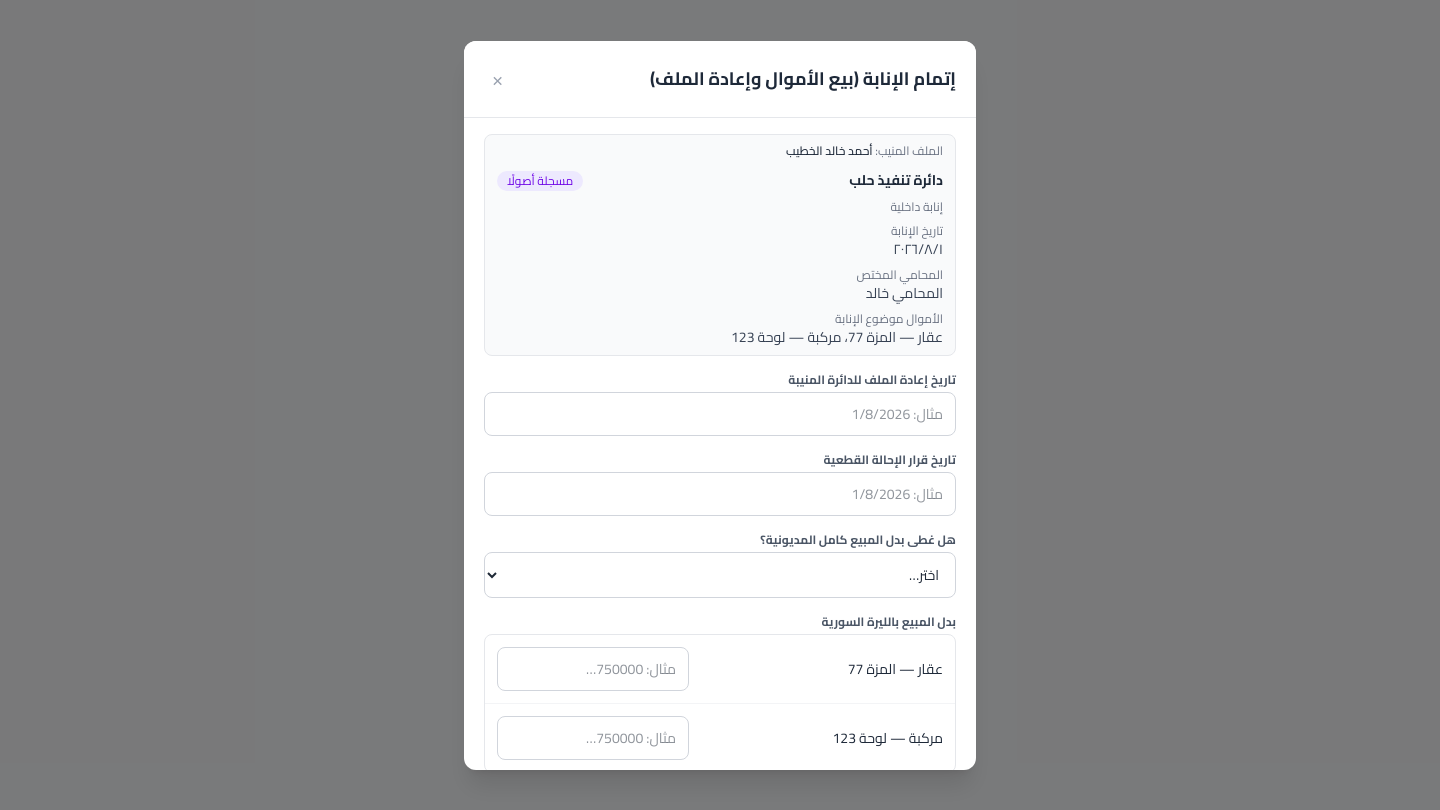
Test: CompleteDelegationModal › يرفض بدل المبيع الصفري أو غير الرقمي
Type "10/8/2026" into the field labelled "تاريخ إعادة الملف للدائرة المنيبة" at [720, 414], box [484, 392, 956, 436]
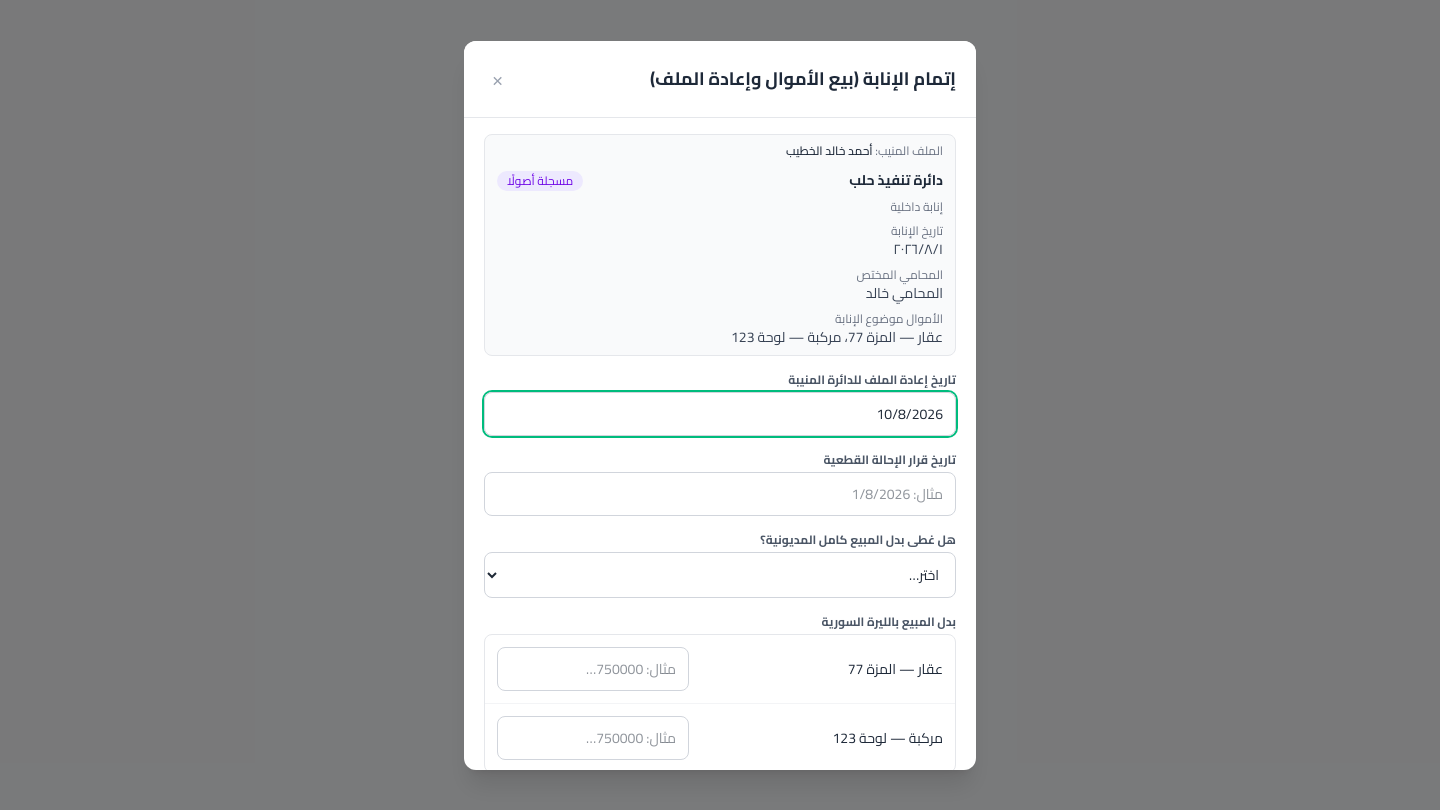
Type "12/8/2026" into the field labelled "تاريخ قرار الإحالة القطعية" at [720, 494], box [484, 472, 956, 516]
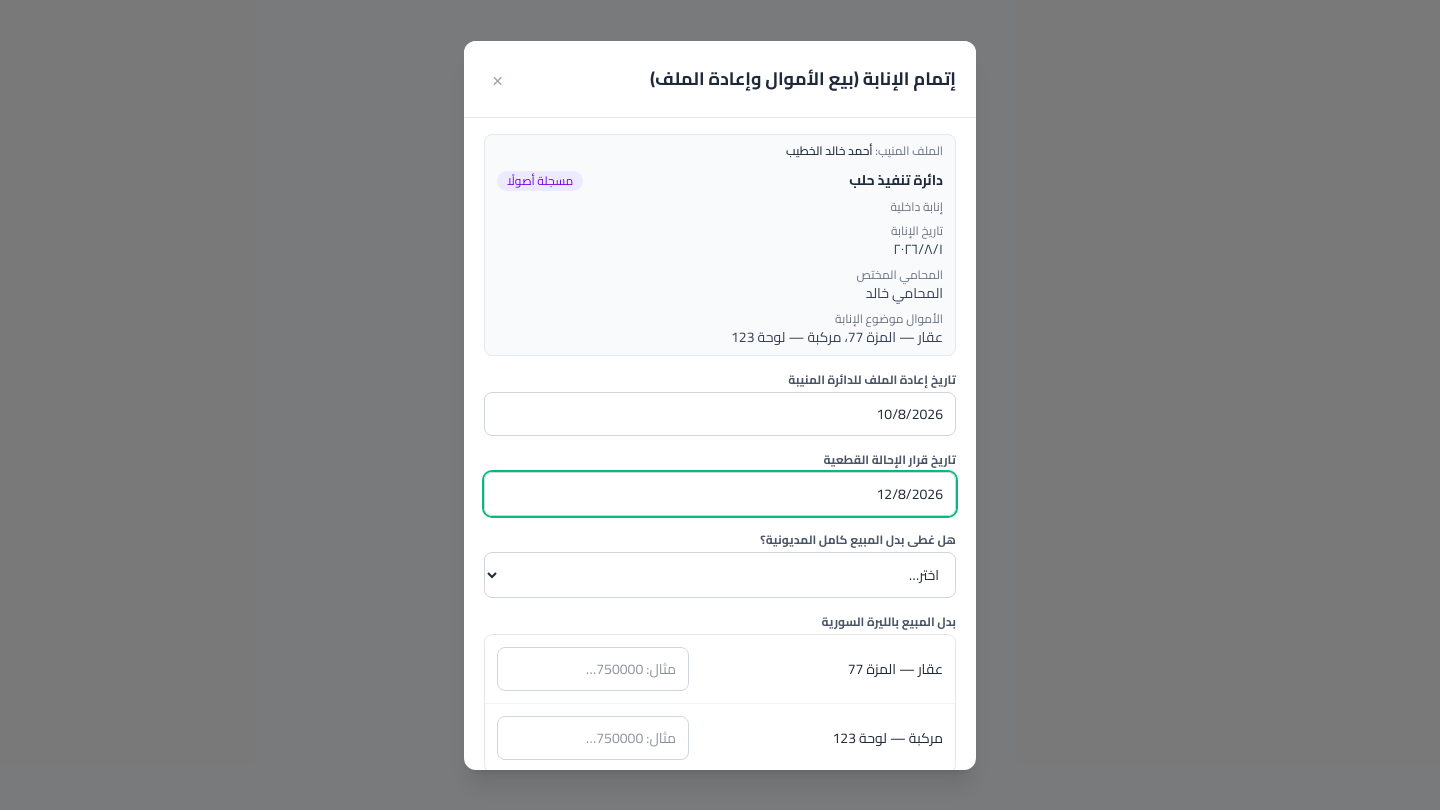
Select "غطى كامل المديونية" in the dropdown labelled "هل غطى بدل المبيع كامل المديونية؟" at [720, 574], box [484, 552, 956, 598]
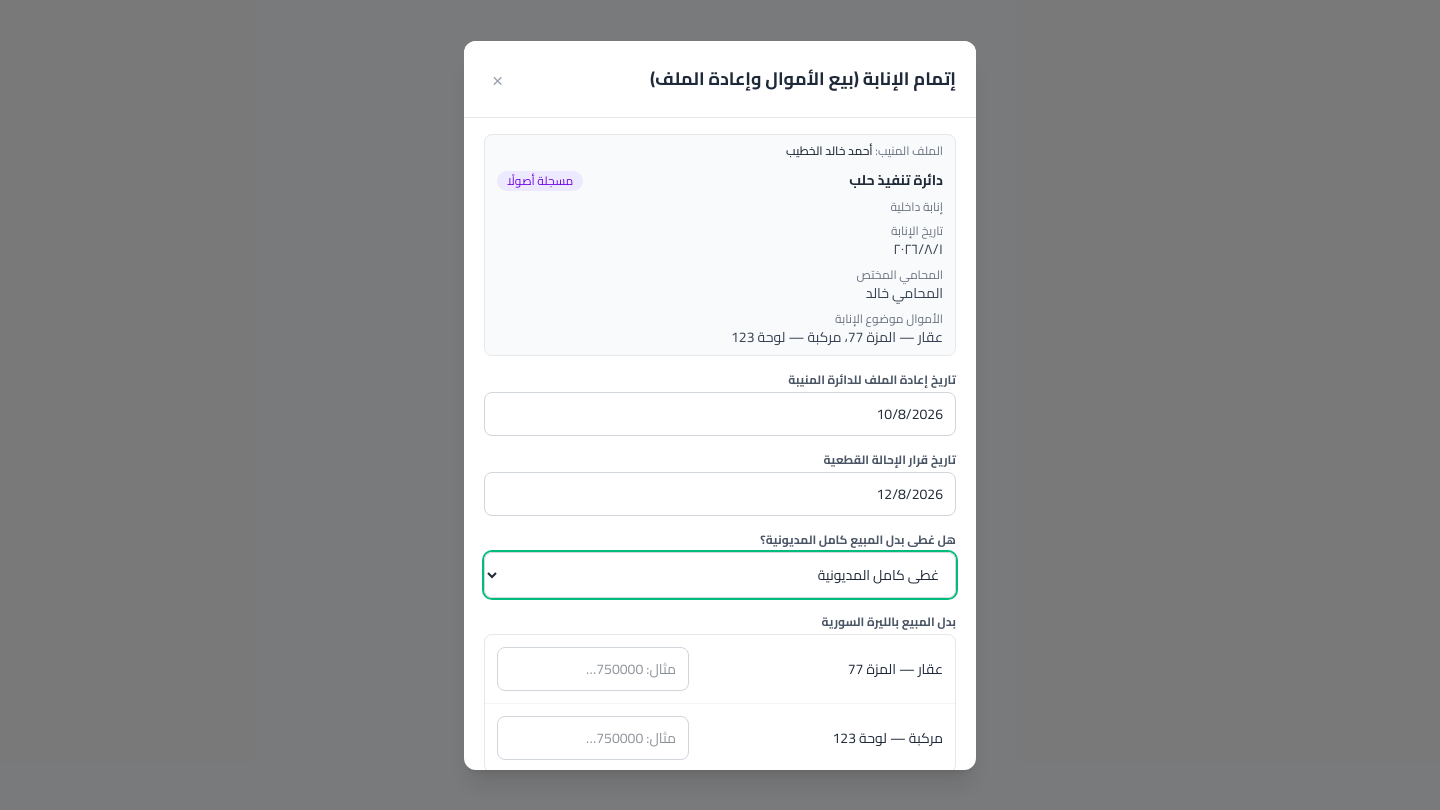
Type "0" into the field named "بدل المبيع بالليرة السورية" at [593, 668], box [497, 646, 689, 690]
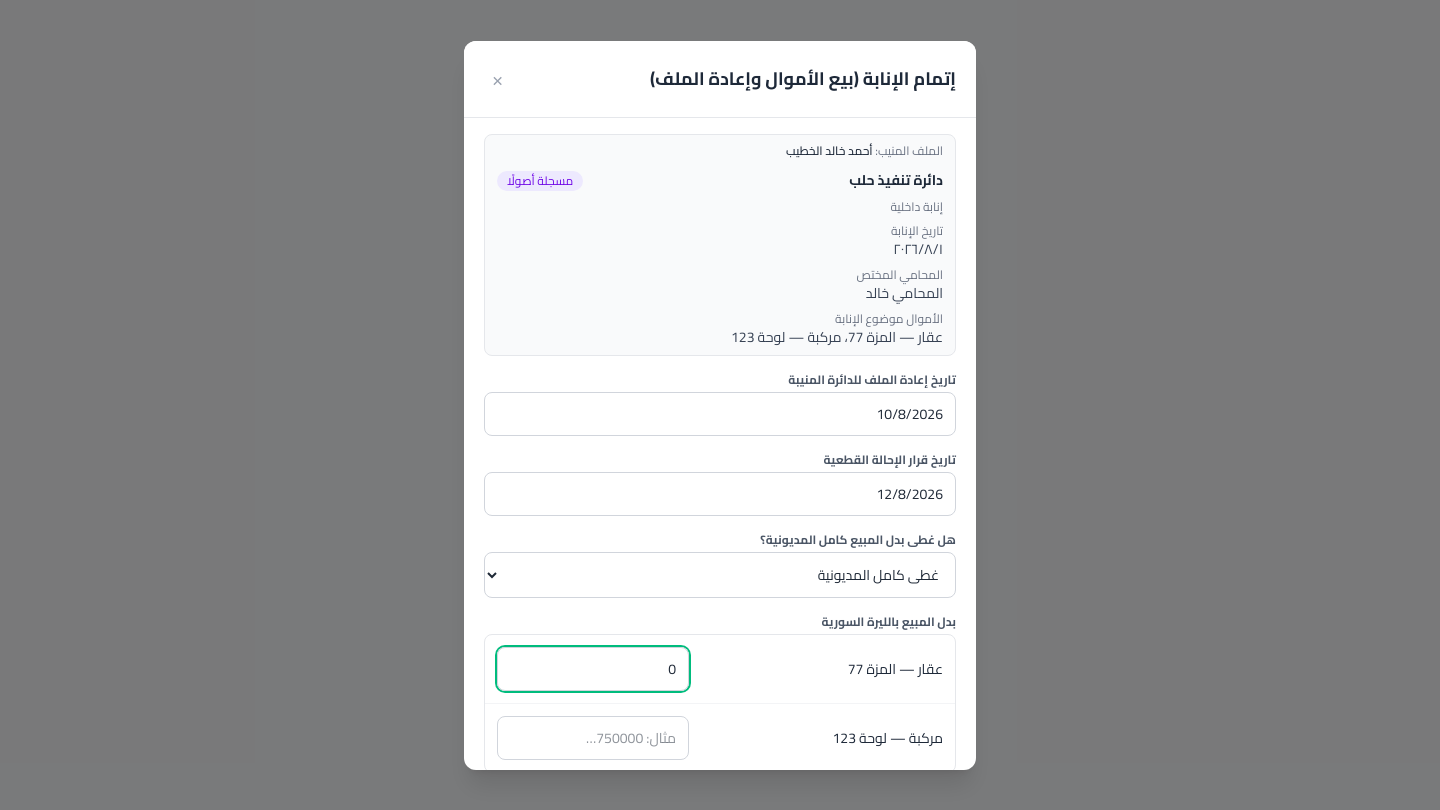
Type "abc" into the field named "بدل المبيع بالليرة السورية" at [593, 738], box [497, 716, 689, 760]
(page scrolled)
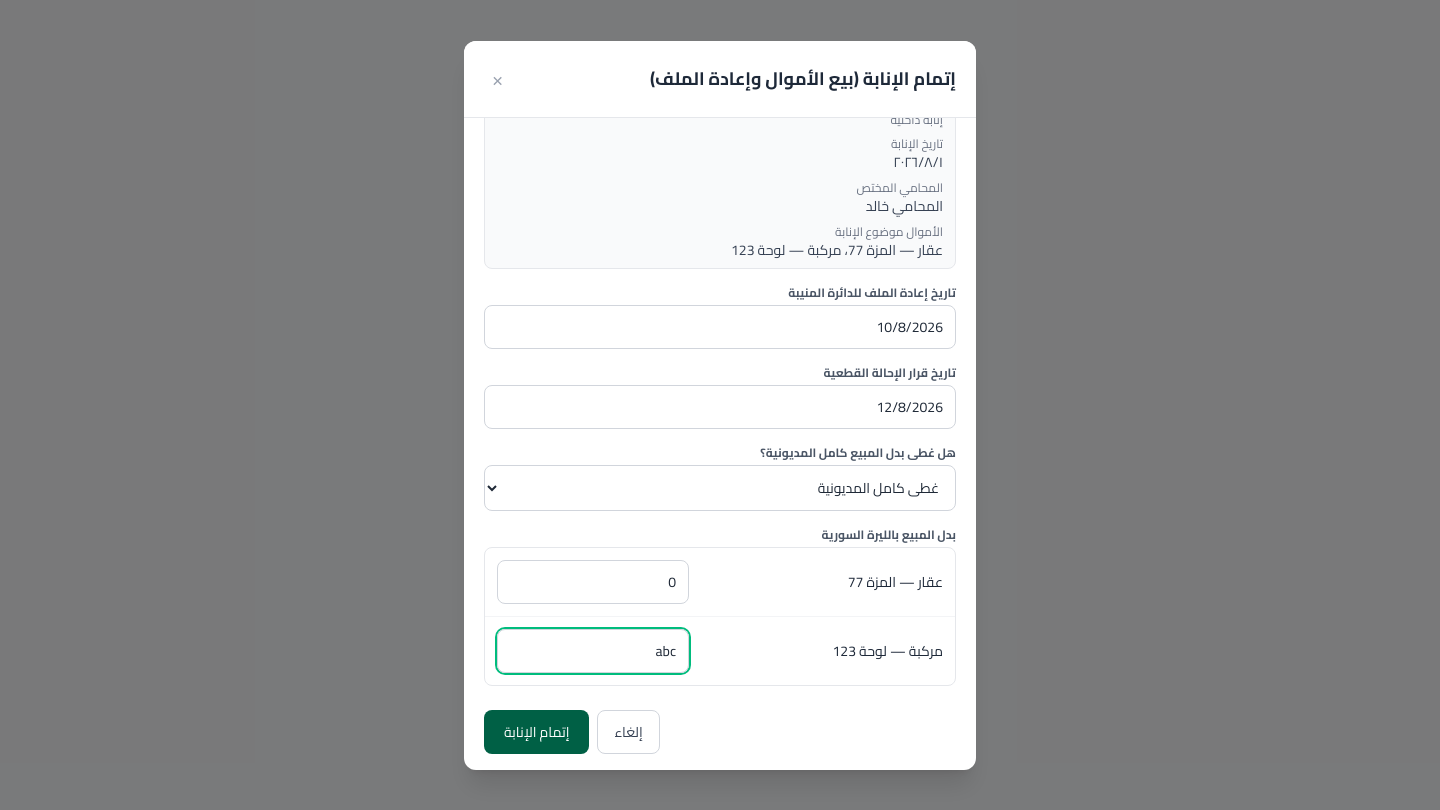
Click the button "إتمام الإنابة" at [537, 732], box [484, 710, 589, 754]
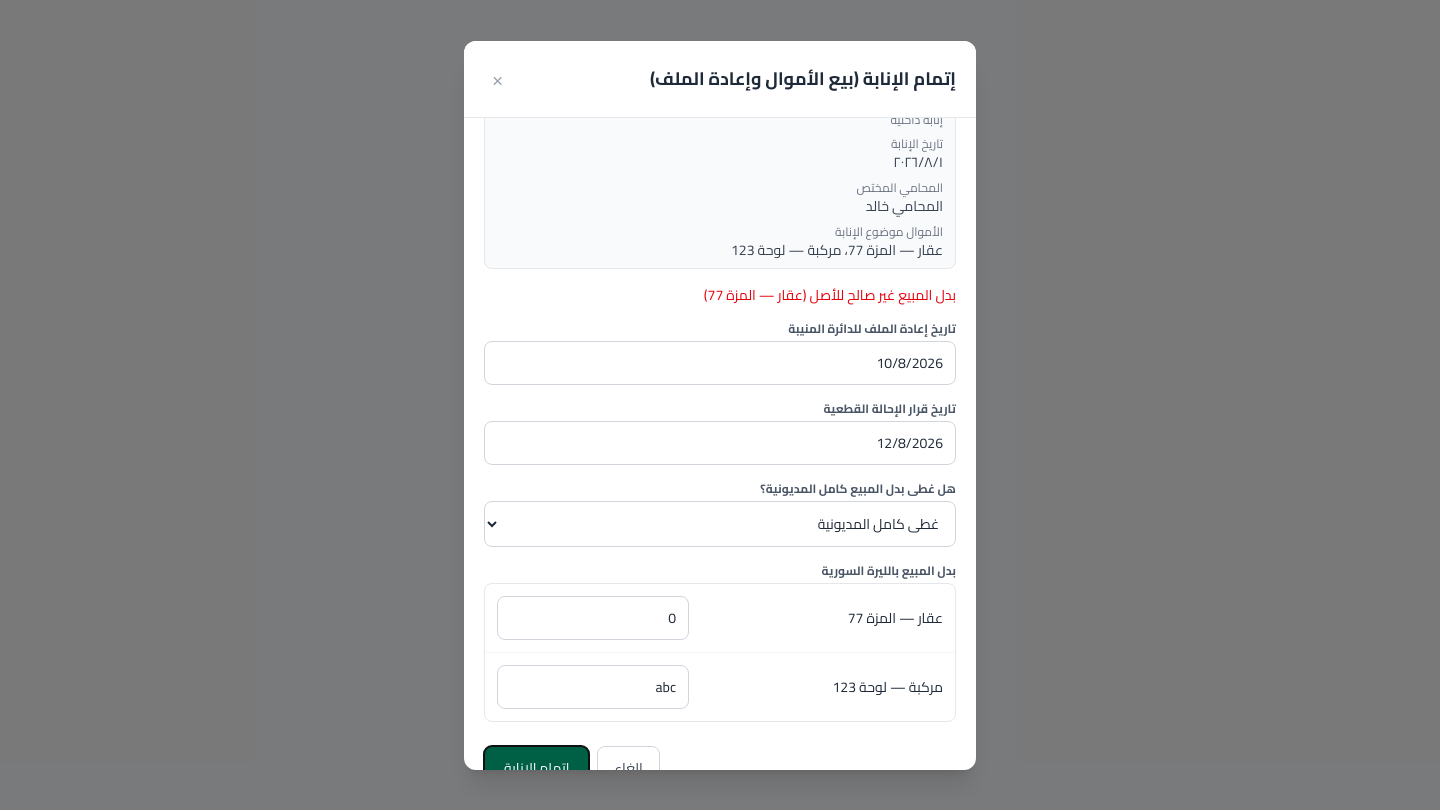
Now the message shows "بدل المبيع غير صالح", box [704, 282, 956, 308]
